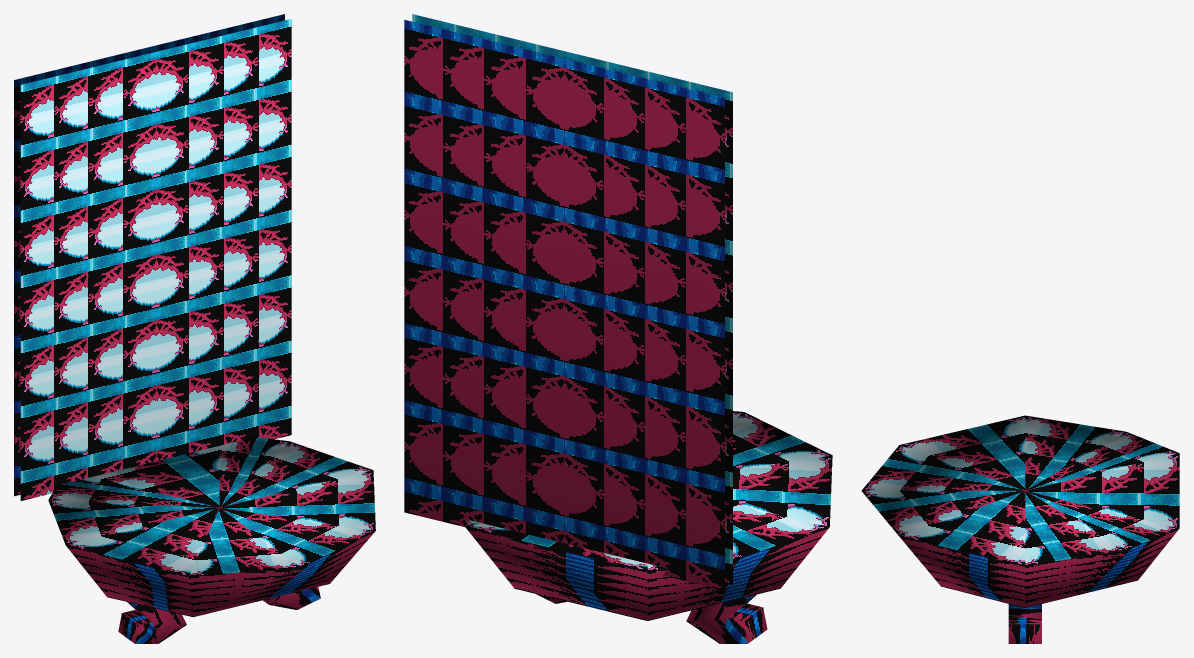
Rendered from 3202IMFY08_04.gltf.
The picture shows the model from 3 angles, left to right: view 1: azimuth 30°, elevation 25°; view 2: azimuth 150°, elevation 25°; view 3: azimuth 270°, elevation 25°; orthographic projection. The views are drawn at different scales.
Parts seen in each view (by area): view 1: 3202IMFY08_04; view 2: 3202IMFY08_04; view 3: 3202IMFY08_04.
Part boxes in pixels (x1=…): 3202IMFY08_04: x1=14, y1=14, x2=375, y2=643; 3202IMFY08_04: x1=404, y1=14, x2=832, y2=643; 3202IMFY08_04: x1=861, y1=415, x2=1179, y2=643.
Size of the model in its own units: 0.8945 by 1.45 by 0.7986.
2 materials, 2 textured.
